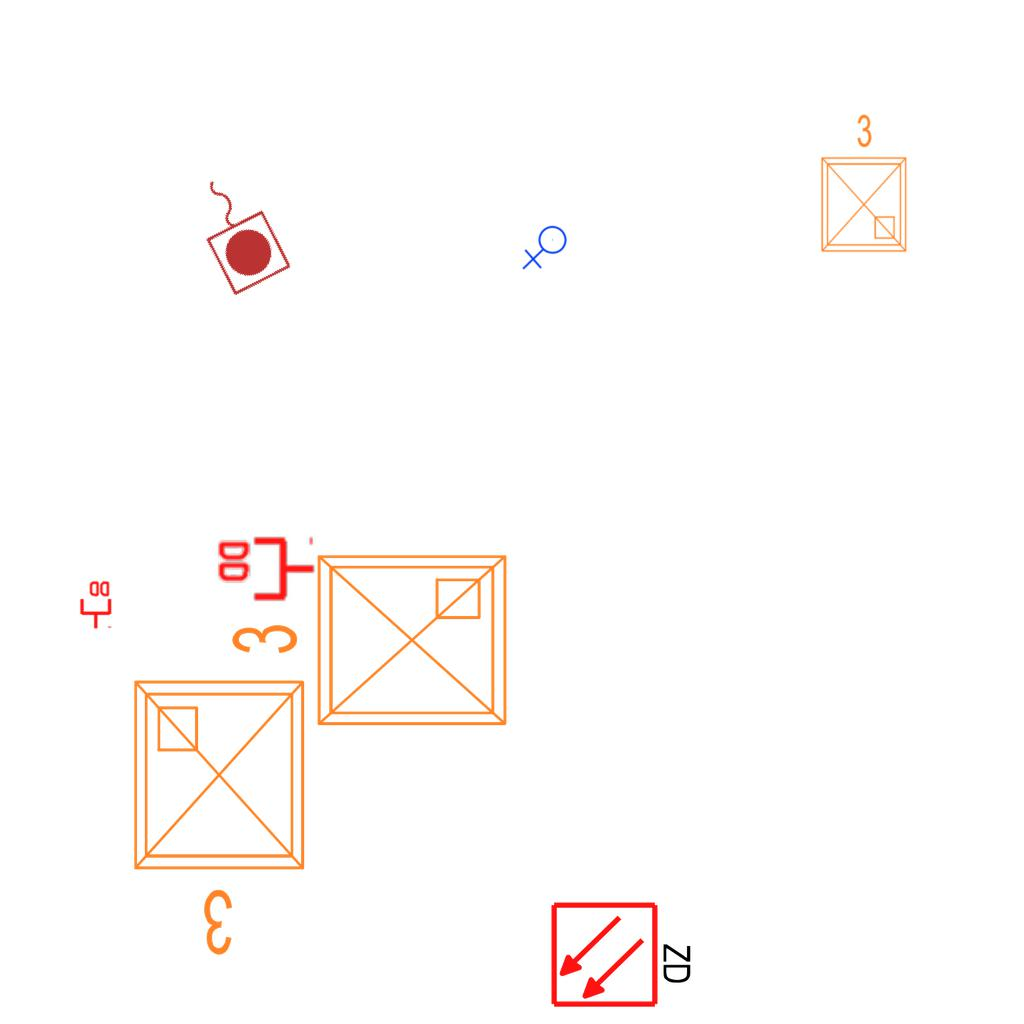Datenanschluss_zweifach: (214, 536, 317, 605), (78, 579, 112, 630)
Einbaudownlights_LED_Konferenzraeume: (119, 666, 327, 966), (221, 540, 521, 748), (810, 109, 914, 259)
Elektroanschluss_allgemein_230V_Geraeteanschlussdose_230V: (522, 225, 571, 272)
ZD_Melder_in_Zwischendecke_mit_Revisionsoeffnung_mind_40_x_40_cm: (549, 896, 698, 1010)
Zugtaster: (178, 159, 298, 301)
